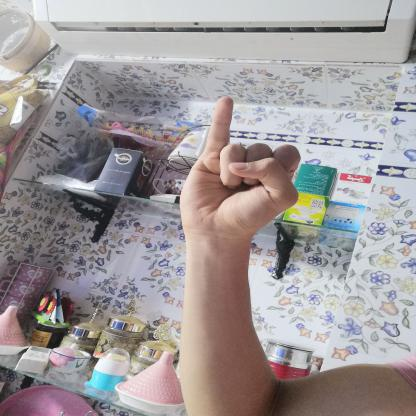MEEM: (162, 87, 312, 247)
